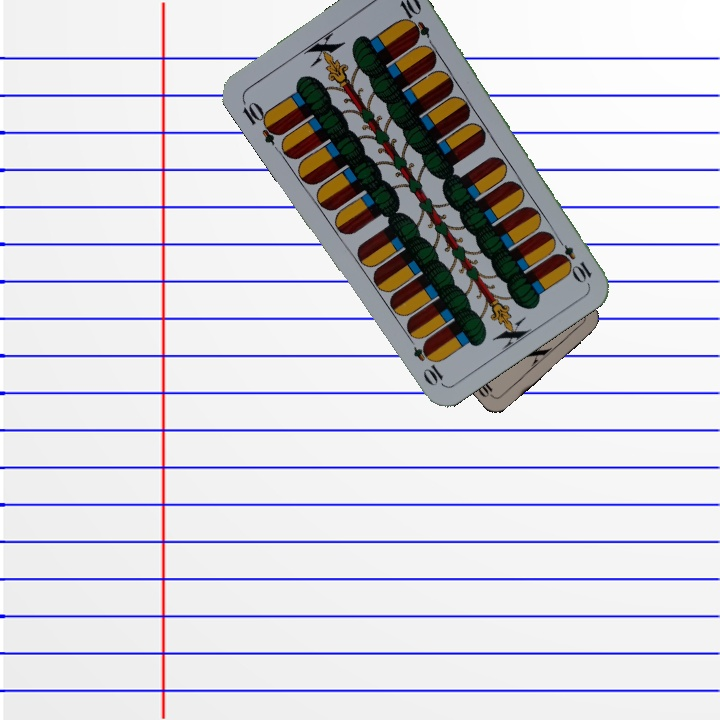E10: (238, 95, 285, 147), (550, 232, 595, 285)
